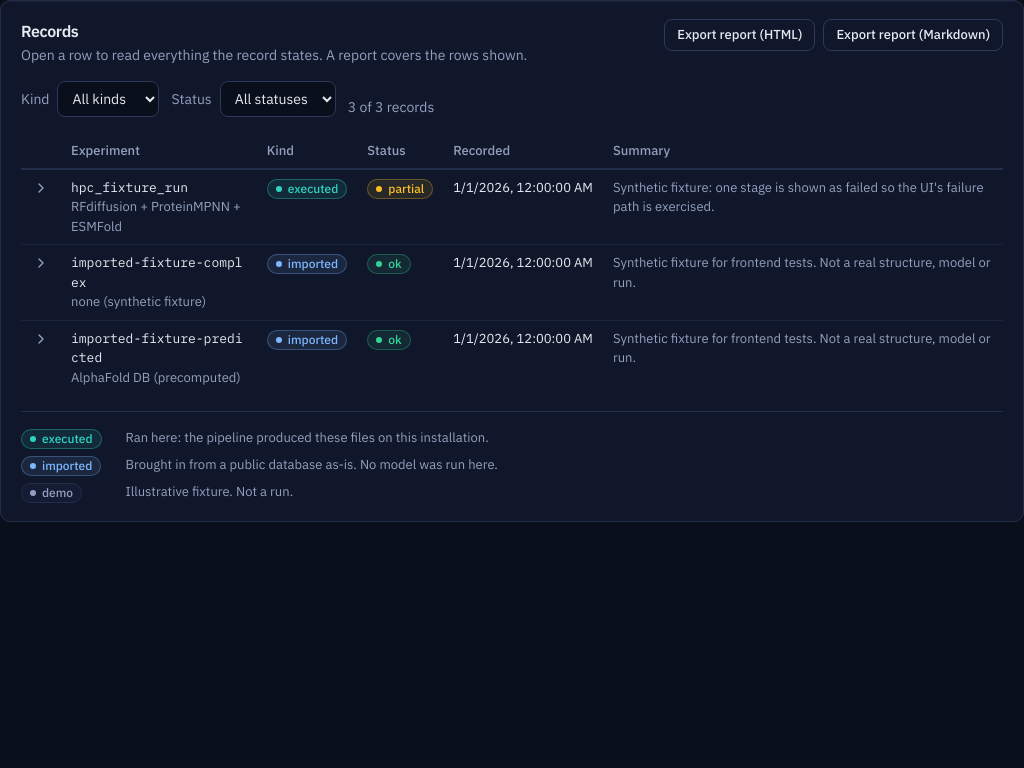
Test case: ExperimentHistory › filters by kind and status
This screenshot has width=1024, height=768.
Select "Executed" in the dropdown named "Filter by kind" at (108,99), box [58,81,160,117]
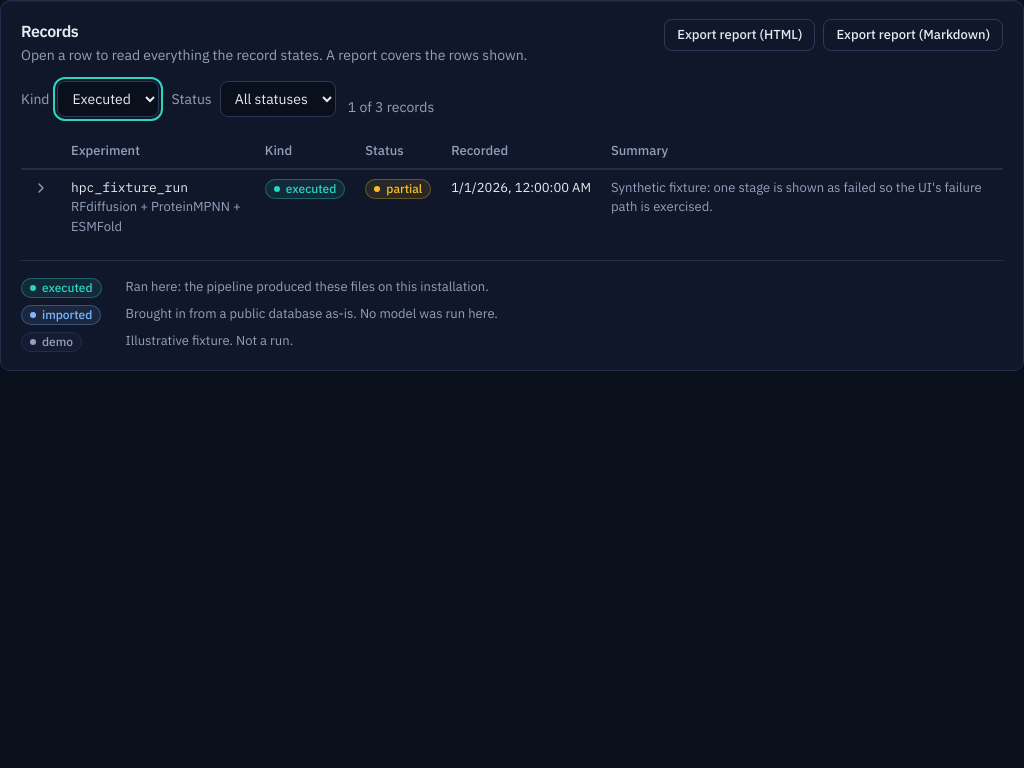
Select "Failed" in the dropdown named "Filter by status" at (278,99), box [220,81,336,117]
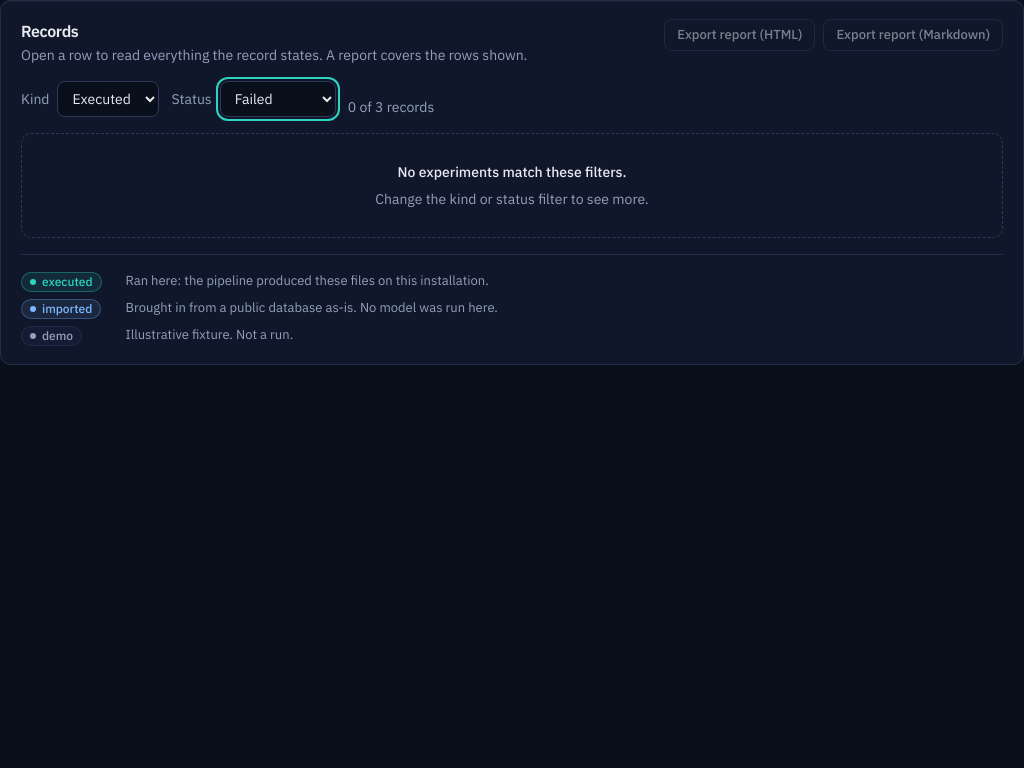
Check: the text "No experiments match these filters." is shown, box [398,163,626,181]
Check: the button "Export report (HTML)" is disabled, box [664,19,815,51]
